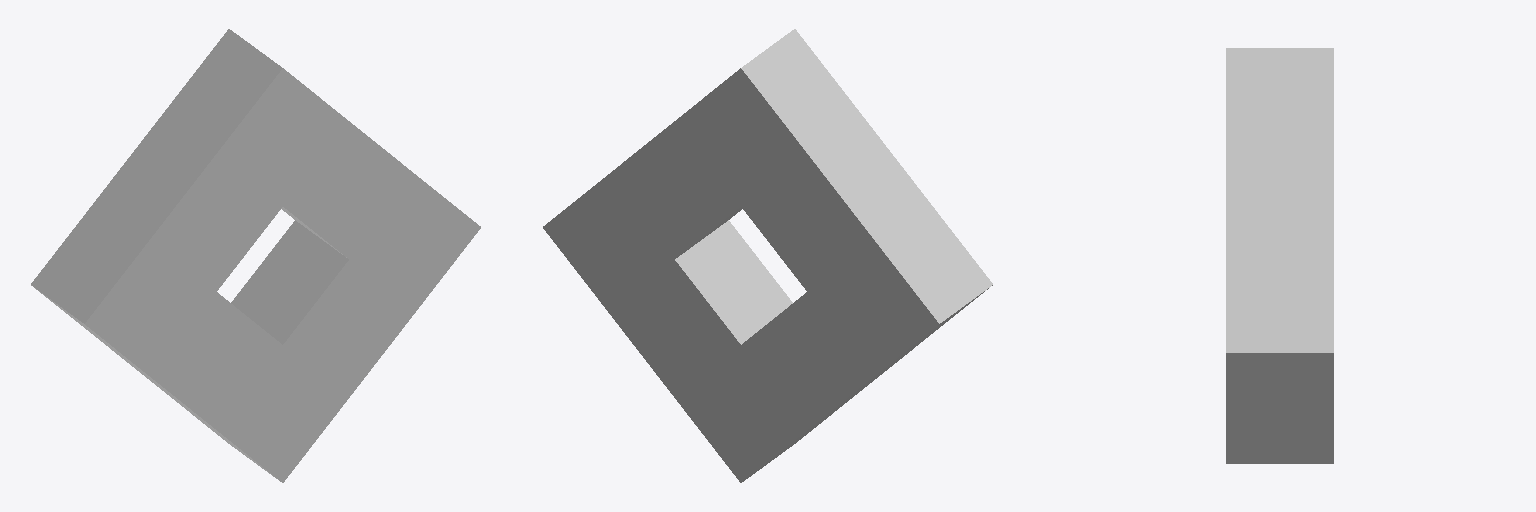
File: eye.obj
3 views of the same model, side by side, from view 1: azimuth 30°, elevation 25°; view 2: azimuth 150°, elevation 25°; view 3: azimuth 270°, elevation 25° (orthographic).
Parts seen in each view (by area): view 1: cube; view 2: cube; view 3: cube.
Boxes of the visible parts, box(x1,y1,x2,y2) form: cube: box(31, 29, 480, 482); cube: box(543, 29, 992, 482); cube: box(1226, 48, 1333, 463).
Bounding box in the file's own units: 0.1326 × 0.1326 × 0.0312.